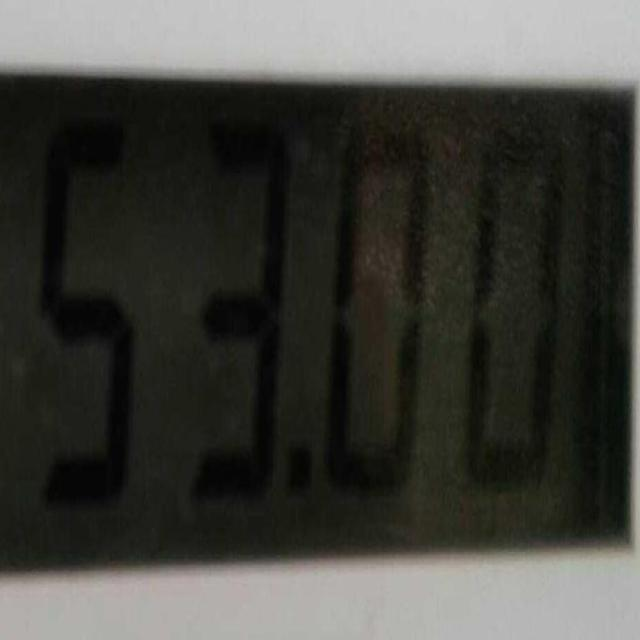.: (290, 443, 316, 505)
0: (458, 108, 574, 510), (324, 98, 432, 520)
3: (191, 109, 293, 521)
5: (31, 104, 148, 538)
